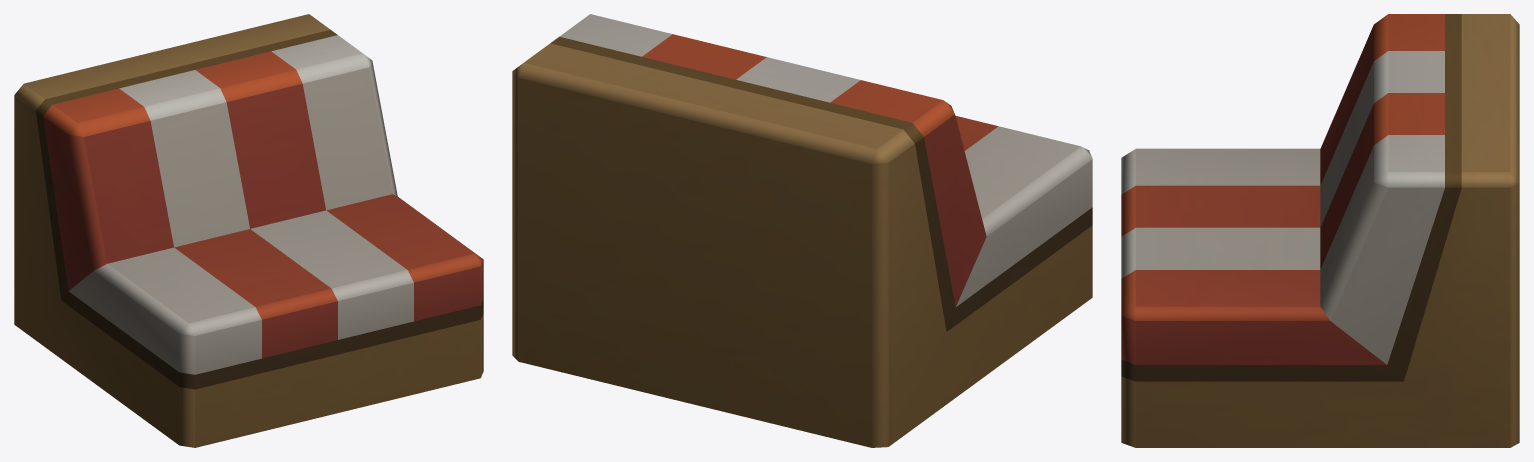
File: chair_roof_x2_red_white.fbx
3 renders of one model, left to right at view 1: azimuth 30°, elevation 25°; view 2: azimuth 150°, elevation 25°; view 3: azimuth 270°, elevation 25°, orthographic. The views are drawn at different scales.
Visible parts, largest first — view 1: chair_roof_x2_red_white; view 2: chair_roof_x2_red_white; view 3: chair_roof_x2_red_white.
Part boxes in pixels (bbox=[...]): chair_roof_x2_red_white: bbox=[14, 14, 483, 447]; chair_roof_x2_red_white: bbox=[512, 14, 1092, 447]; chair_roof_x2_red_white: bbox=[1121, 14, 1519, 447].
Size of the model in its own units: 100 by 75 by 100.
